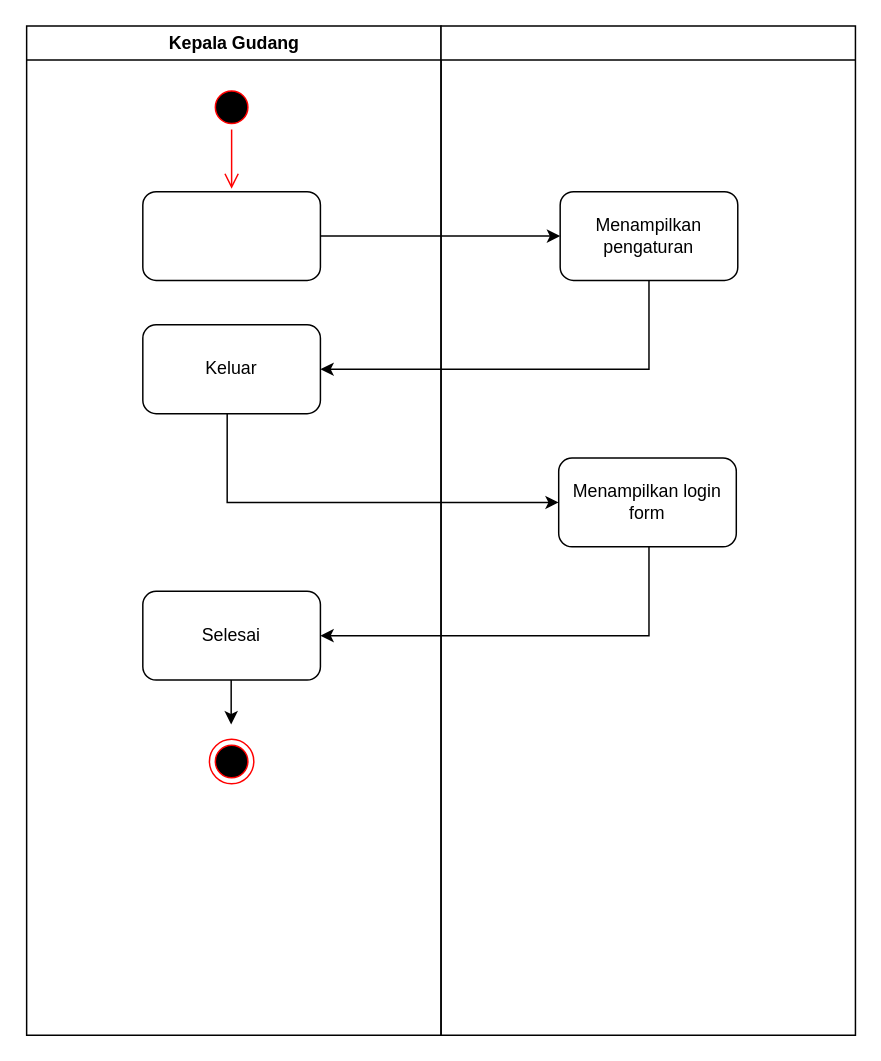
This 881x1061 diagram has some shape labels left out. Each missing label, with the box of its shape:
Membuka pengaturan: (141, 190, 320, 280)
Sistem: (440, 24, 855, 1035)
